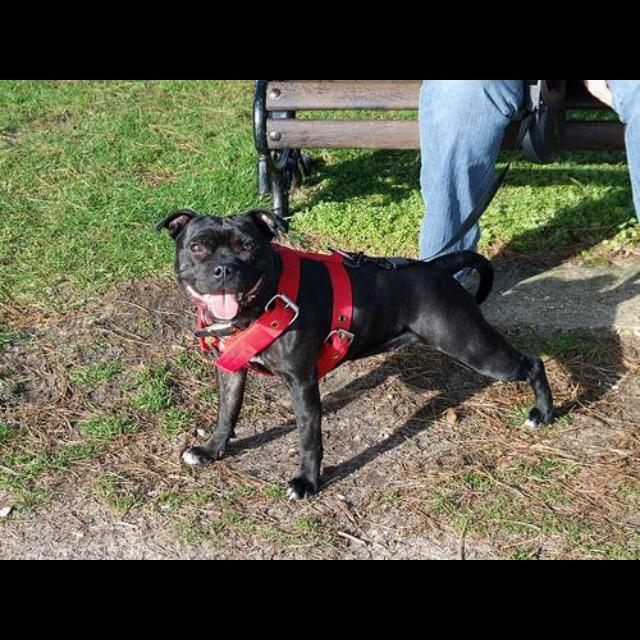staffford: (156, 207, 557, 502)
